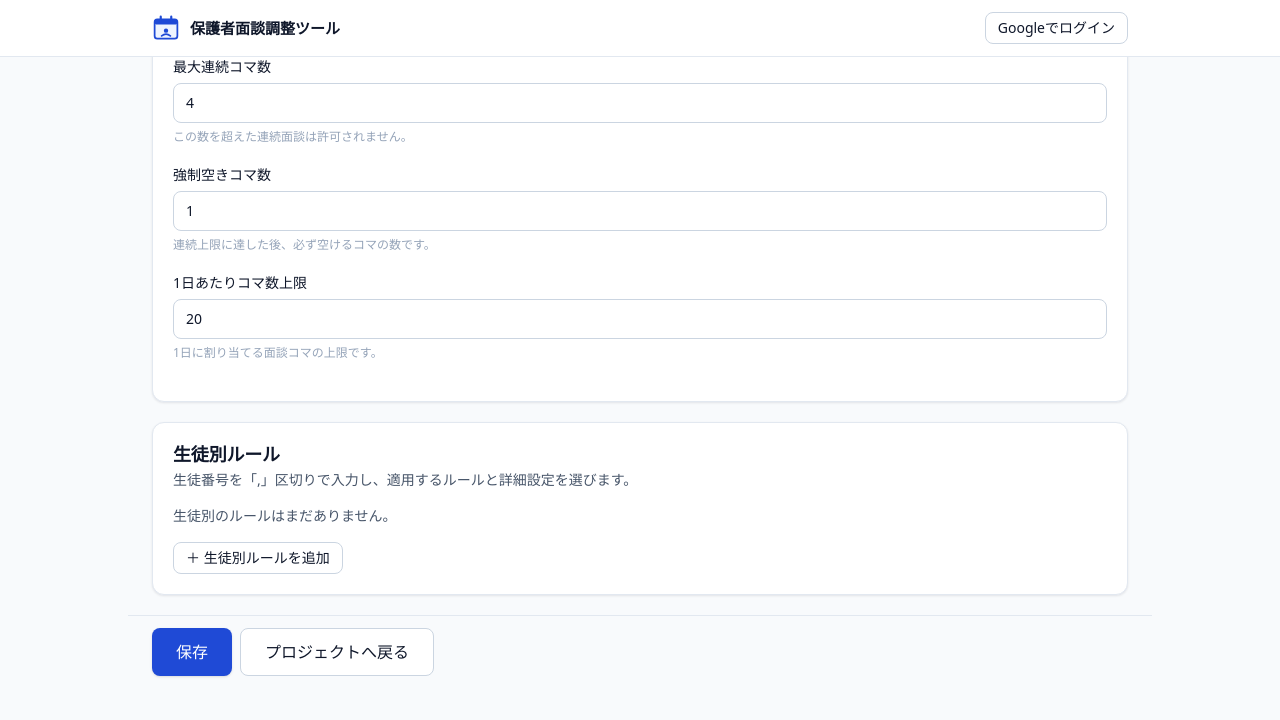
Test: ProjectRulesPage 期間の選択 › 候補日以外の日はカレンダー上で選択できない
(page scrolled)
Click the button "＋ 生徒別ルールを追加". click: (258, 558)
box: [173,542,343,574]
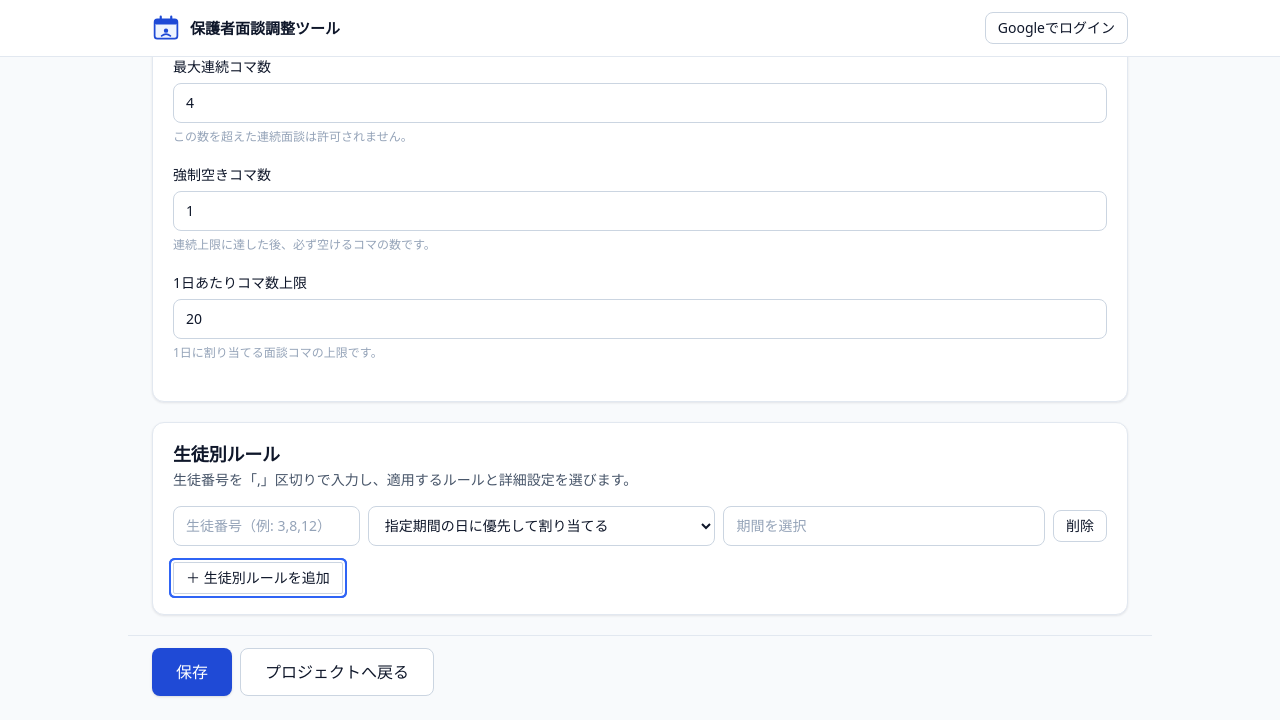
Expected: the button with aria-label "1行目 優先期間" is enabled
Click the button with aria-label "1行目 優先期間". click: (771, 525)
box: [723,506,1045,546]
(page scrolled)
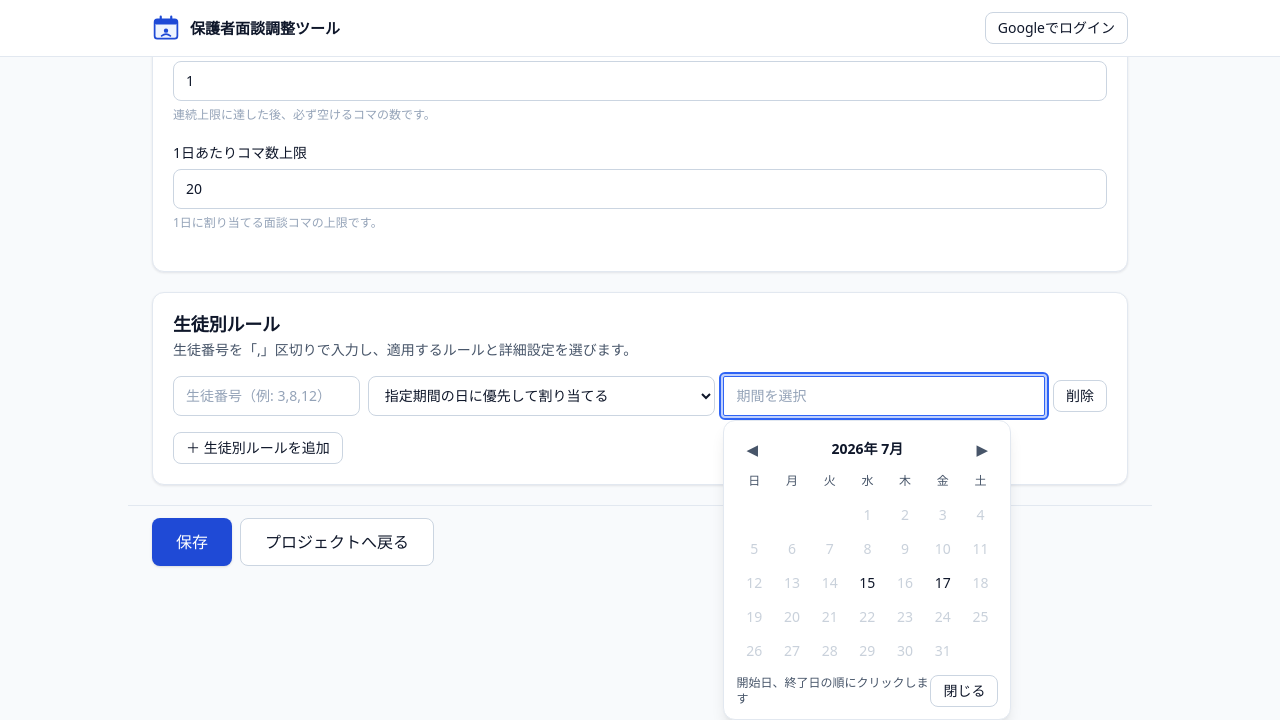
Expected: the button named "2026-07-15" is enabled, [850,567,885,599]
Expected: the button named "2026-07-16（選択不可）" is disabled, [887,567,923,599]
Expected: the button named "2026-07-17" is enabled, [925,567,961,599]
